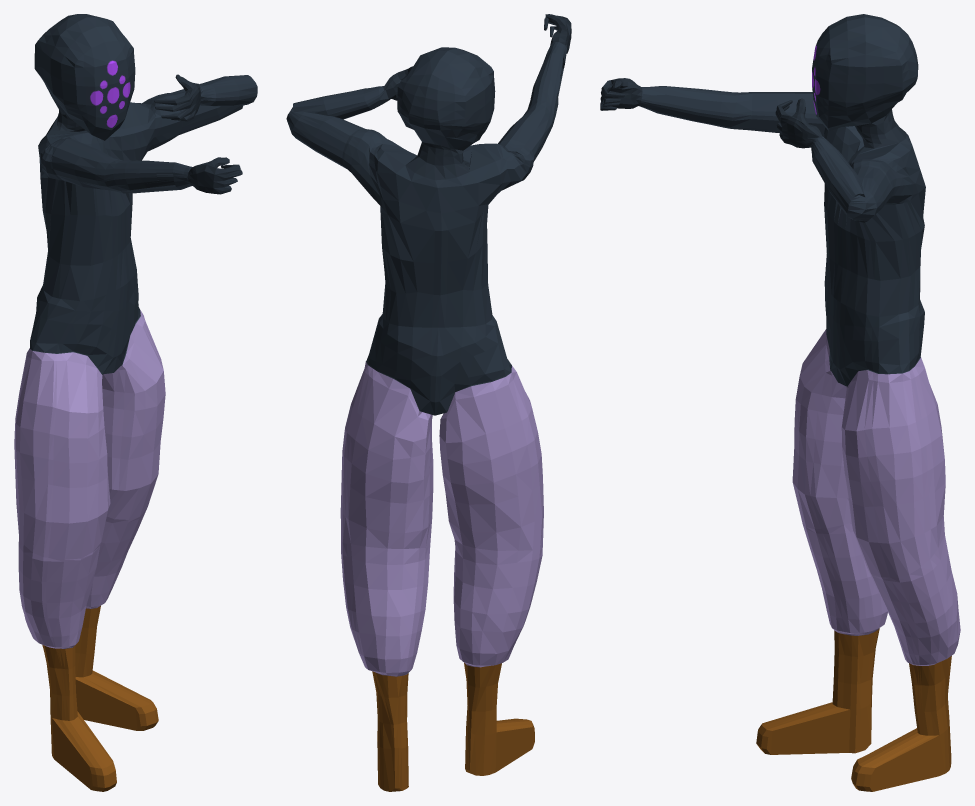
Rendered from Oracle_Attack_000024.obj.
3 renders of one model, left to right at view 1: azimuth 30°, elevation 25°; view 2: azimuth 150°, elevation 25°; view 3: azimuth 270°, elevation 25°, orthographic. The views are drawn at different scales.
Visible parts, largest first — view 1: Cube; view 2: Cube; view 3: Cube.
Part boxes in pixels (x1,y1,x2,y2): Cube: (14,14,257,791); Cube: (286,14,571,791); Cube: (600,14,960,791).
Bounding box in the file's own units: 1.37 × 3.94 × 1.72.
